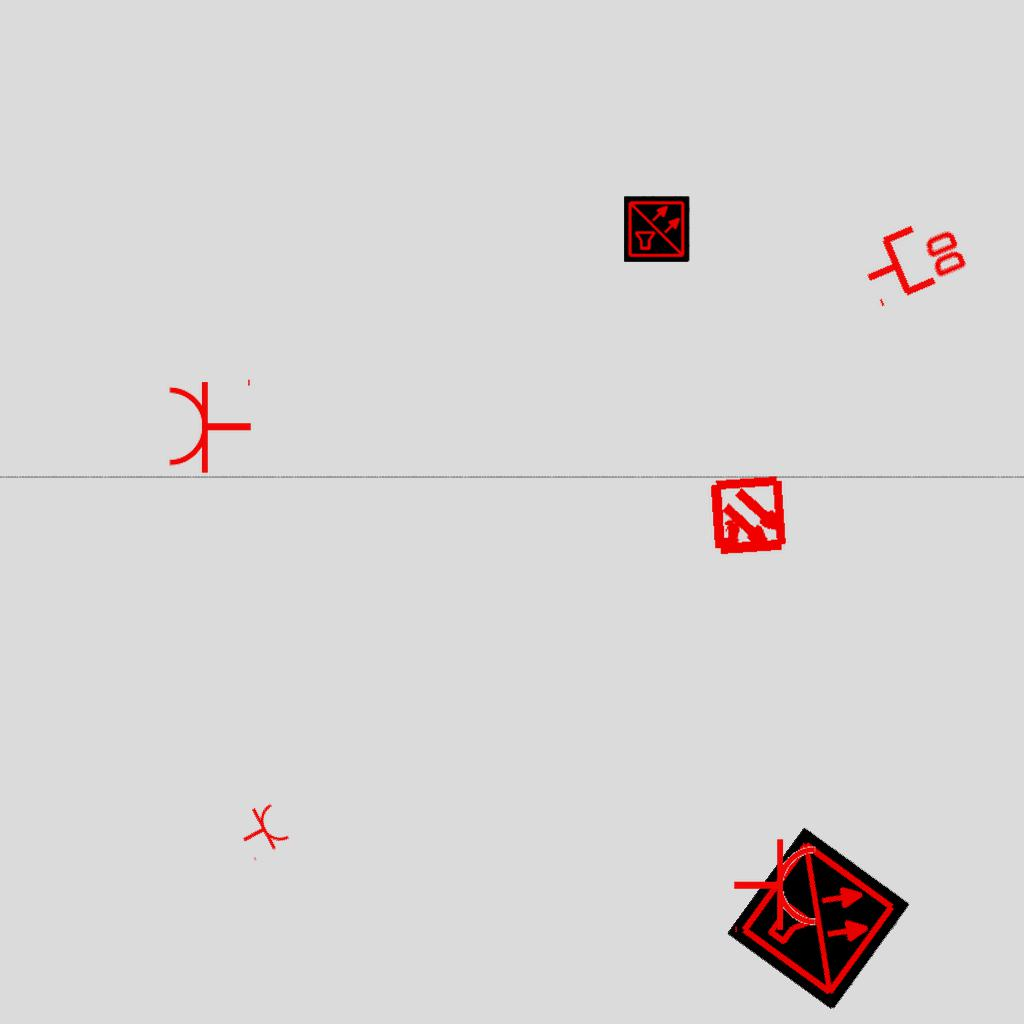Datenanschluss_zweifach: (851, 205, 974, 310)
OKW_Multisensormelder_(Kombination_optischer_Rauch-Kahlenmonoxid_Waerme-Melder): (726, 826, 912, 1012), (624, 196, 690, 262)
OT_Multisensormelder_(Kombination_RMO_WMD): (688, 457, 809, 578)
Schukosteckdose_einfach: (166, 375, 253, 475), (732, 837, 819, 937), (231, 798, 294, 864)
